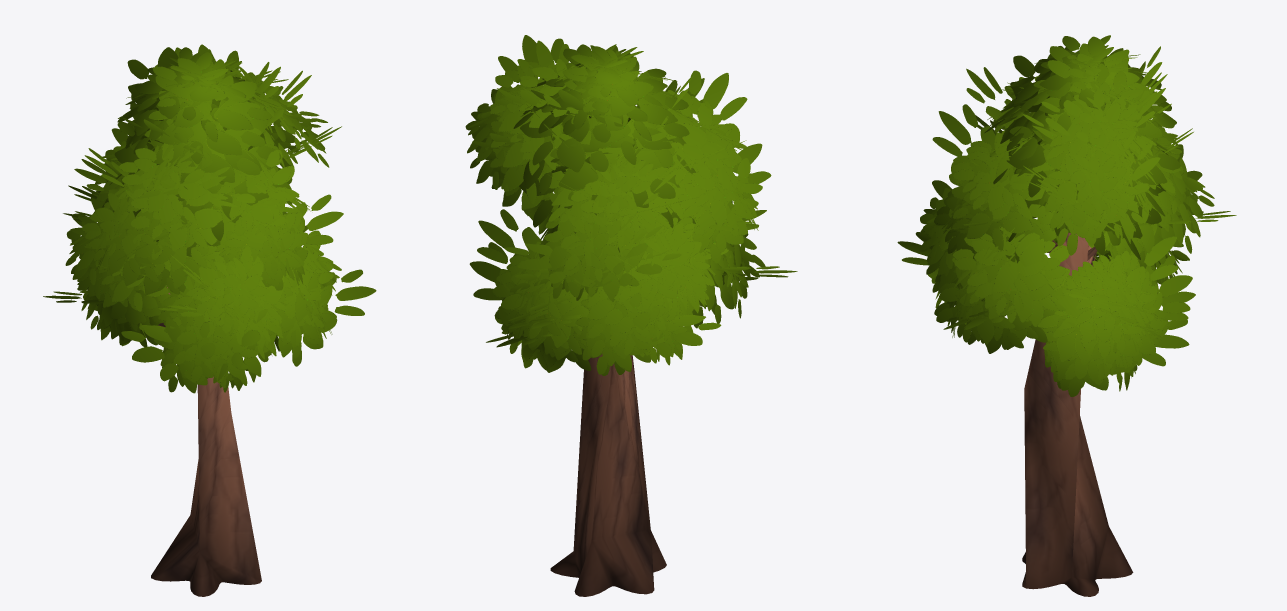
File: mk-common-1-lo.glb
The picture shows the model from 3 angles, left to right: view 1: azimuth 30°, elevation 25°; view 2: azimuth 150°, elevation 25°; view 3: azimuth 270°, elevation 25°; orthographic projection. The views are drawn at different scales.
Parts seen in each view (by area): view 1: CommonTree_1; view 2: CommonTree_1; view 3: CommonTree_1.
Boxes of the visible parts, x1=… form: CommonTree_1: x1=43, y1=44, x2=376, y2=596; CommonTree_1: x1=465, y1=35, x2=797, y2=596; CommonTree_1: x1=897, y1=35, x2=1236, y2=596.
Size of the model in its own units: 4.59 by 7.11 by 5.
Materials: 2 (2 with a texture image).
